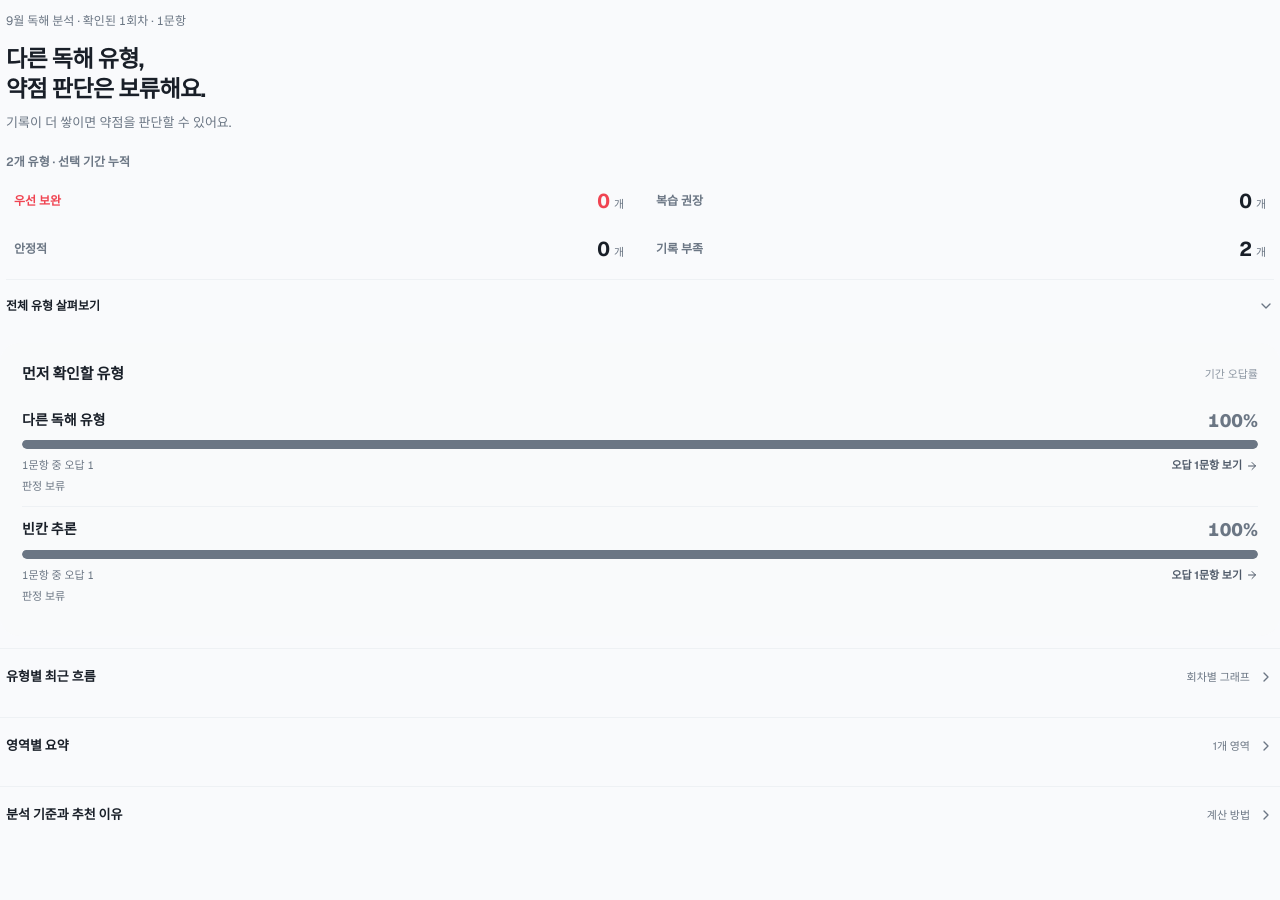
Test case: 분석 화면 › 같은 영역에 속하는 다중 태그의 문항을 중복 계산하지 않는다
Click the text "영역별 요약": (37, 746) [6,736,69,756]
(page scrolled)
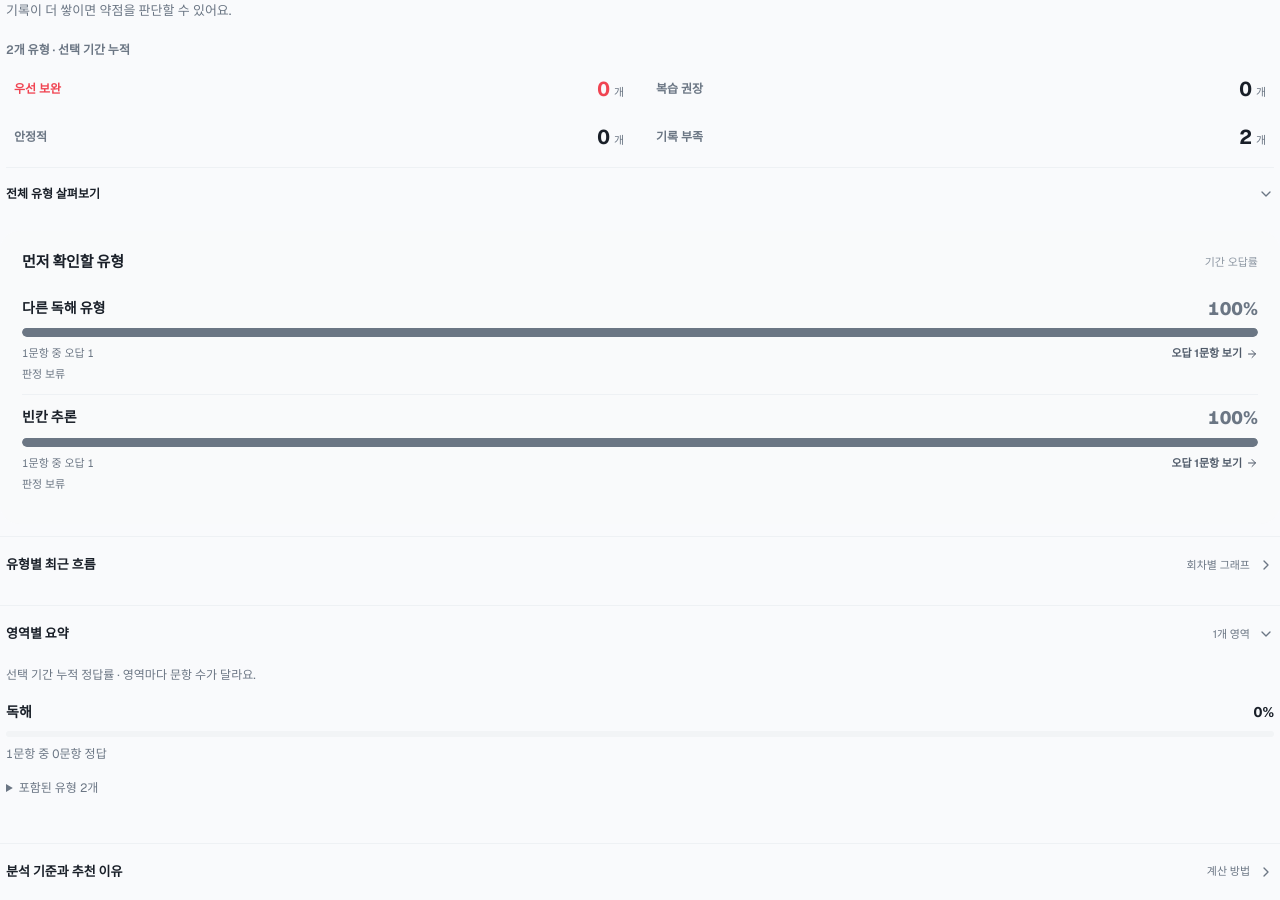
Expected: the text "1문항 중 0문항 정답" is shown, [6,746,107,762]
Expected: the text "선택 기간 누적 정답률 · 영역마다 문항 수가 달라요." is shown, [6,667,256,683]
Click the heading "포함된 유형 2개": (59, 788) [19,780,98,796]
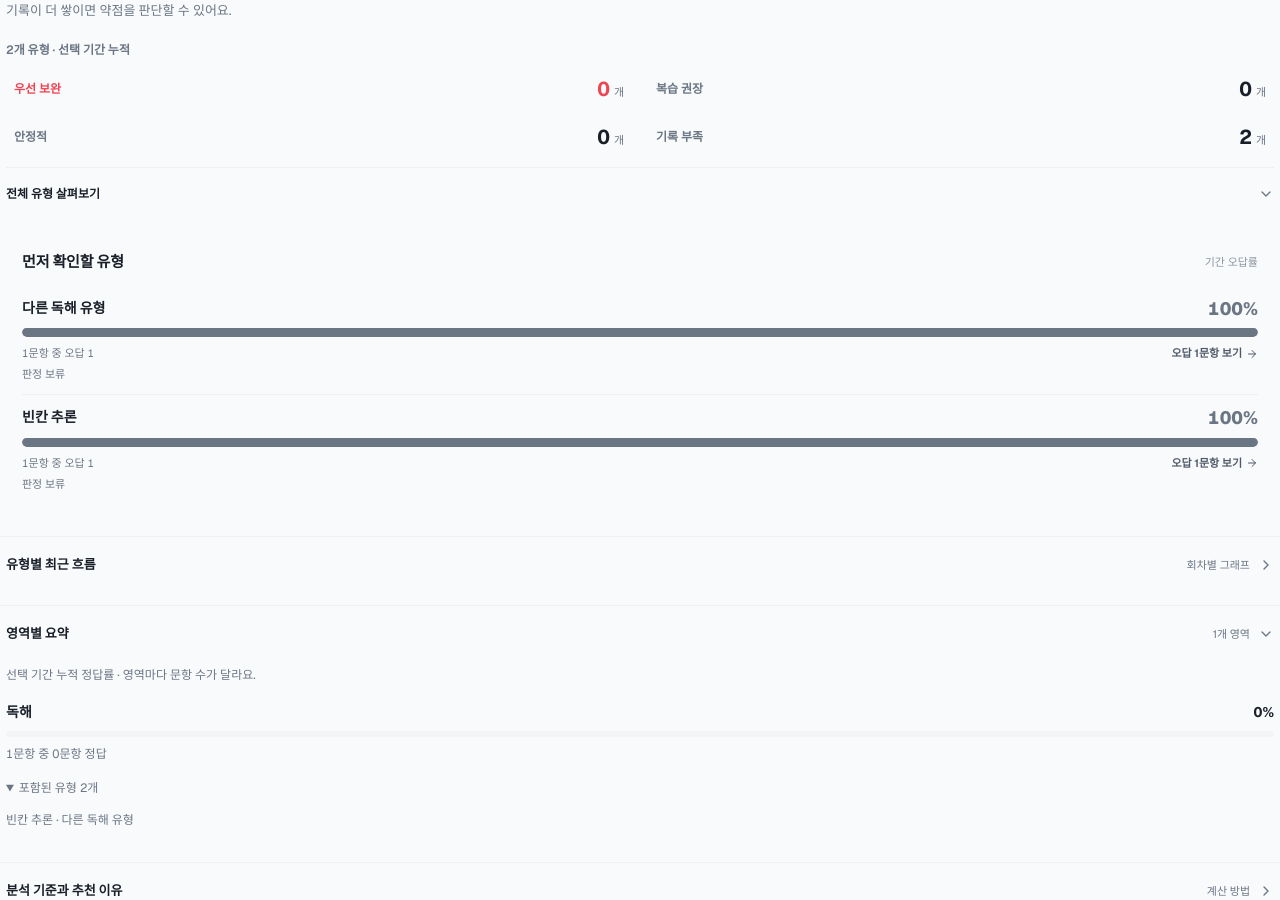
Expected: the text "포함된 유형 2개" shows "빈칸 추론", [6,812,134,828]
Expected: the text "포함된 유형 2개" shows "다른 독해 유형", [6,812,134,828]
